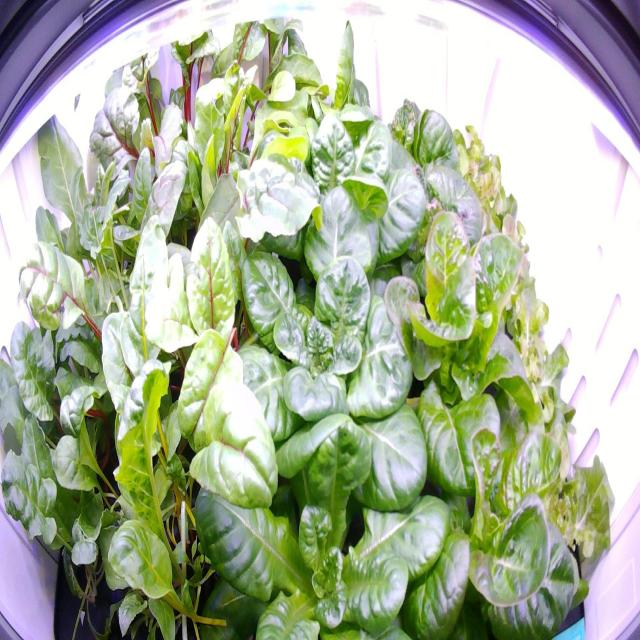Ready: (172, 373, 475, 637), (194, 186, 466, 468), (372, 356, 594, 636), (352, 188, 554, 448), (326, 70, 506, 309), (211, 88, 428, 282)
